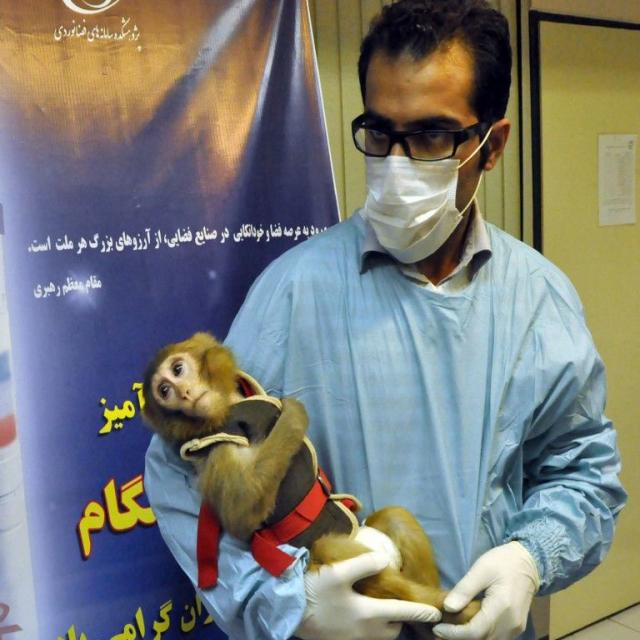mask: (360, 56, 467, 262)
